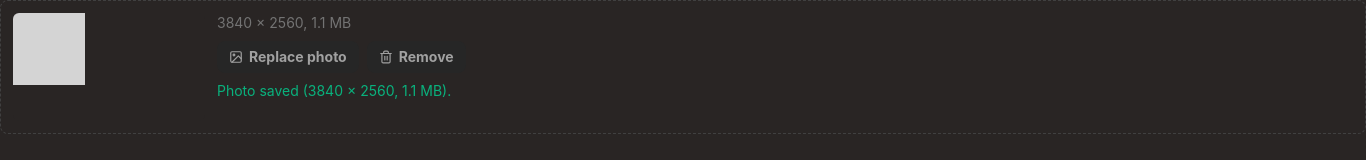
PhotoPicker › removes the photo
Earlier steps of the test are not shown.
Expected: the text "Photo saved (3840 × 2560, 1.1 MB)." is shown, [217,81,466,101]
Step 1. Click the button "Remove" → (416, 57), box [367,41,466,73]
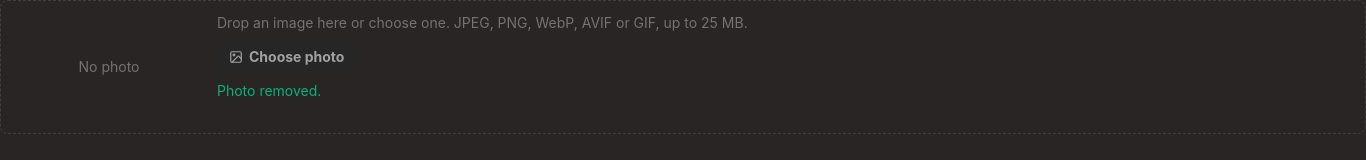
Expected: the text "Photo removed." is shown, [217,82,321,99]
Expected: the text "No photo" is shown, [78,58,140,75]
